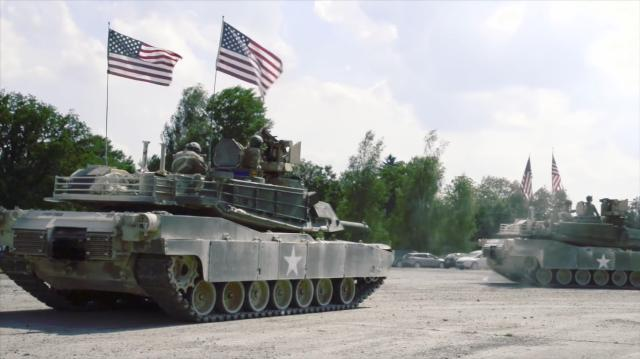tank: (26, 180, 338, 305), (496, 216, 640, 289)
